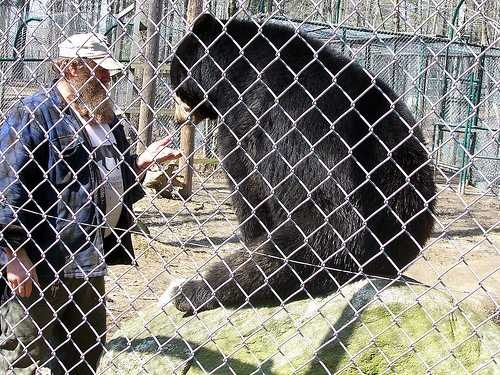bear: (157, 6, 285, 134)
